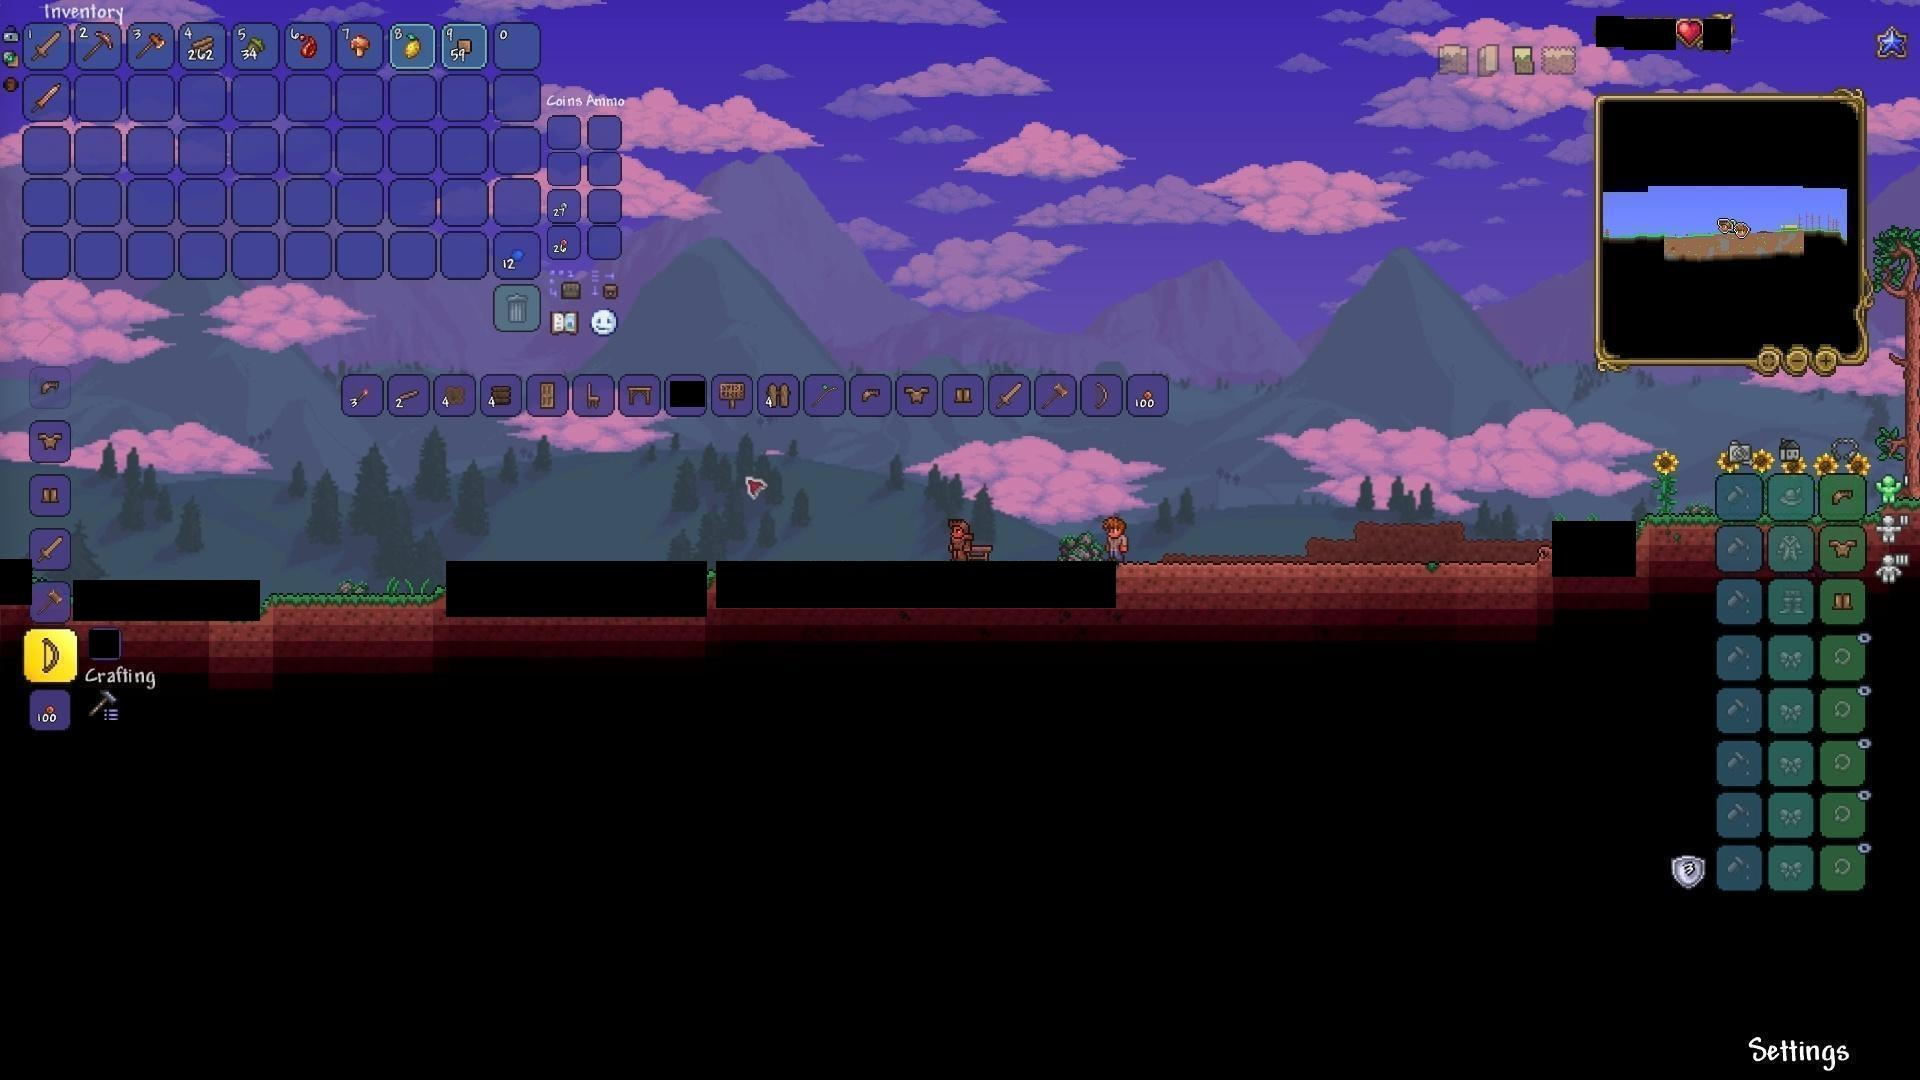breastplate: (36, 431, 65, 452), (1830, 537, 1859, 558), (903, 384, 932, 404)
dirt: (266, 576, 443, 630), (1638, 506, 1716, 555)
heart: (1677, 18, 1704, 49)
helmet: (1829, 483, 1859, 510), (856, 381, 885, 407), (34, 376, 63, 400)
legs: (36, 483, 65, 509), (1830, 587, 1855, 617), (952, 381, 975, 407)
tree: (1887, 222, 1920, 496)
wood: (189, 32, 218, 59)
workbench: (967, 542, 996, 564)
